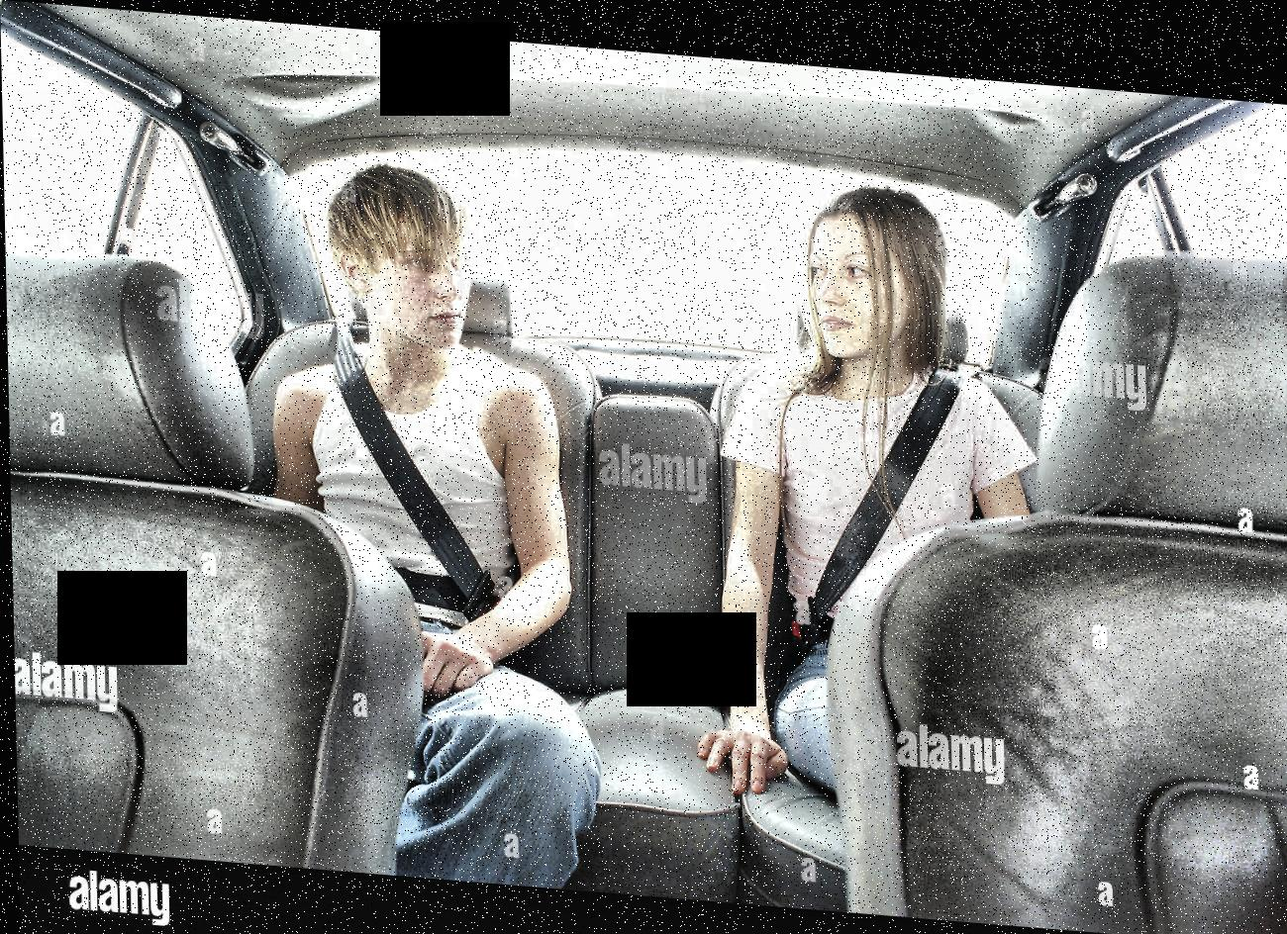seatbelt: (774, 300, 1003, 668), (311, 303, 533, 640)
